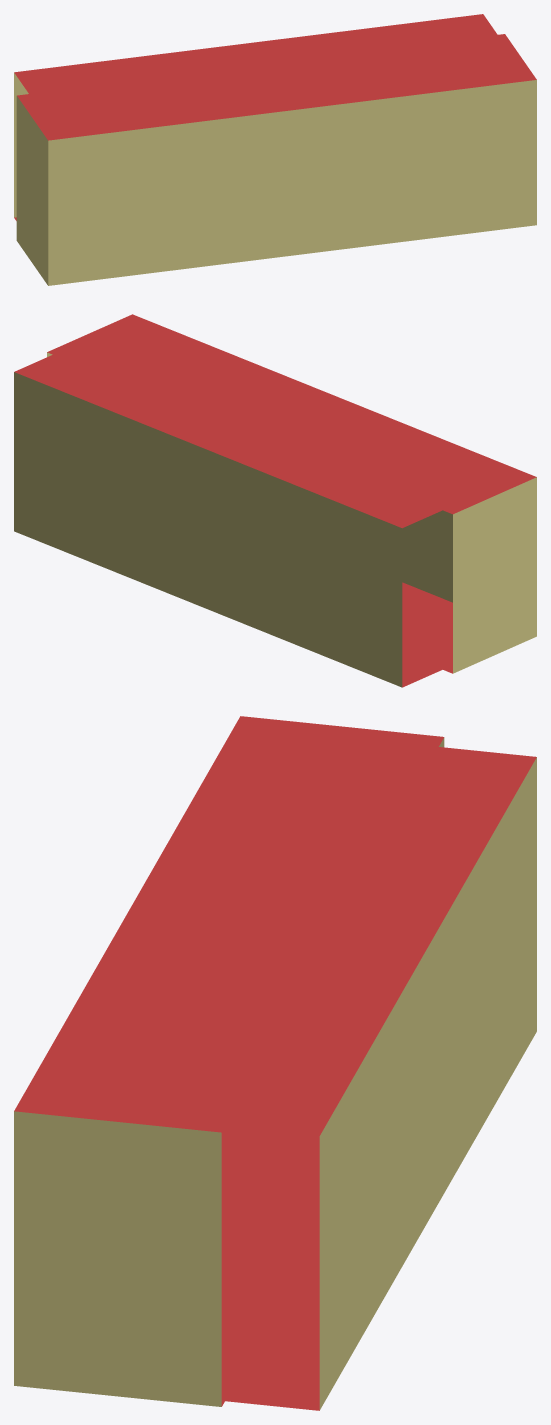
The picture shows the model from 3 angles, top to bottom: view 1: azimuth 30°, elevation 25°; view 2: azimuth 150°, elevation 25°; view 3: azimuth 270°, elevation 25°; orthographic projection. The views are drawn at different scales.
Size of the model in its own units: 17.31 by 9.11 by 5.27.
